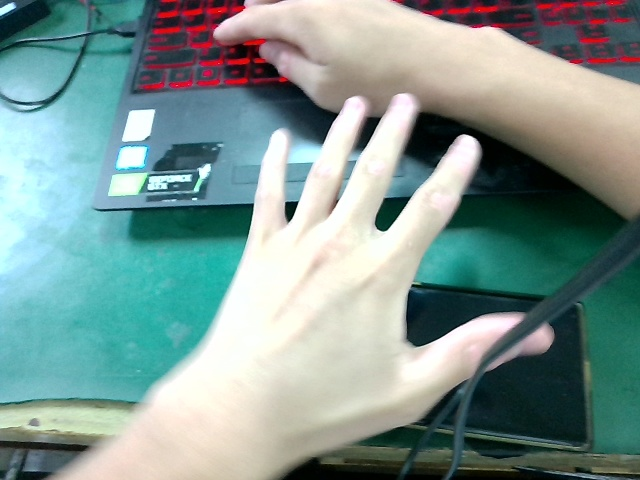paper: (204, 58, 565, 433)
